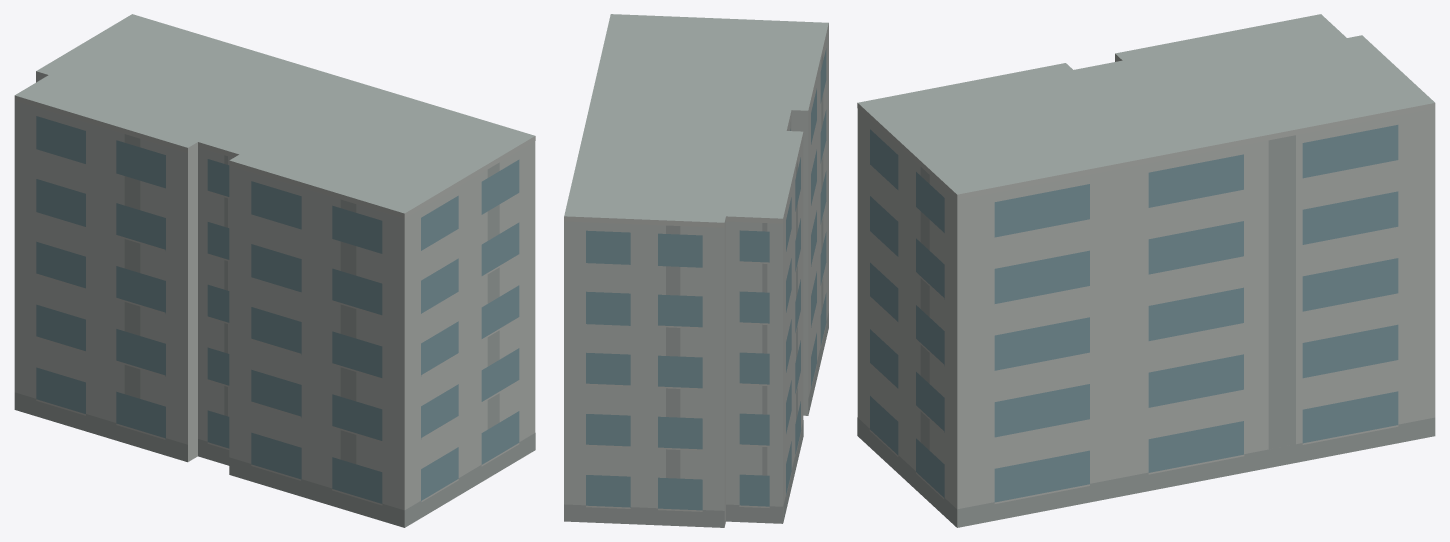
File: survey-upis-32951287.glb
3 views of the same model, side by side, from view 1: azimuth 30°, elevation 25°; view 2: azimuth 150°, elevation 25°; view 3: azimuth 270°, elevation 25° (orthographic). The views are drawn at different scales.
Parts seen in each view (by area): view 1: survey-upis-32951287.tmp; view 2: survey-upis-32951287.tmp; view 3: survey-upis-32951287.tmp.
Part boxes in pixels (x1,y1,x2,y2): survey-upis-32951287.tmp: (14,14,535,527); survey-upis-32951287.tmp: (564,14,828,527); survey-upis-32951287.tmp: (857,14,1435,527).
Bounding box in the file's own units: 16.98 × 14.6 × 22.95.
